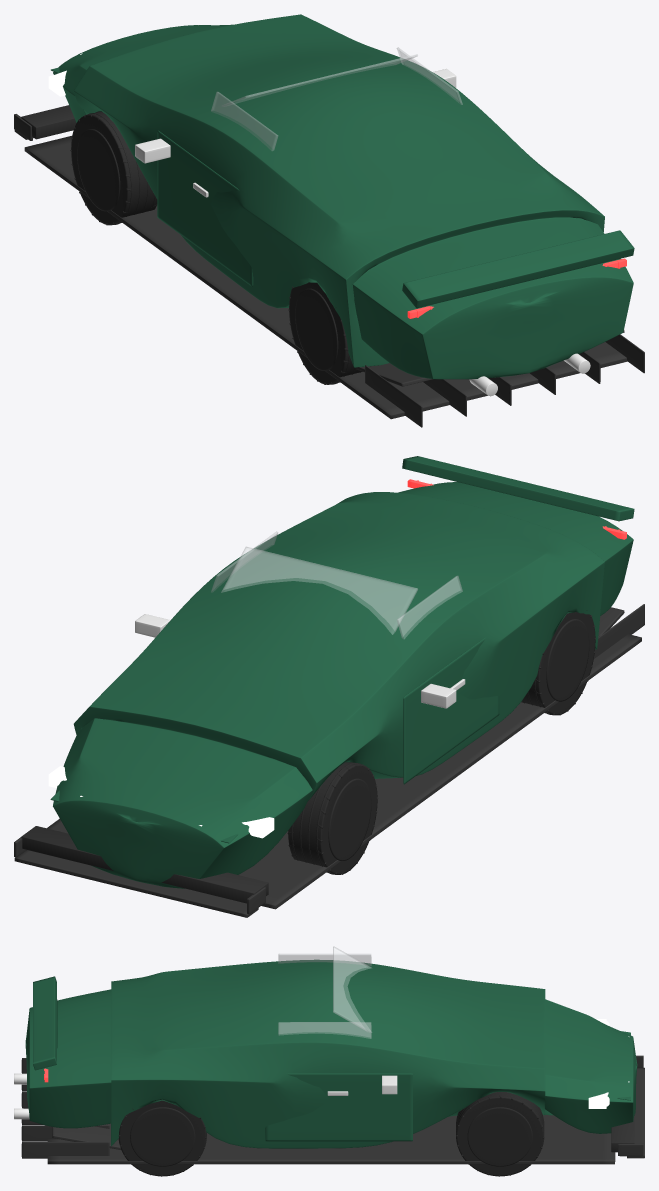
The model's file is Car_AstonMartin_V8_Vantage_1970s_Complete.glb.
3 renders of one model, top to bottom at view 1: azimuth 30°, elevation 25°; view 2: azimuth 150°, elevation 25°; view 3: azimuth 270°, elevation 25°, orthographic. The views are drawn at different scales.
Parts seen in each view (by area): view 1: BODY_MainShell, UNDERBODY_FlatFloor, AERO_Vantage_Ducktail, WHEEL_FL_Tire, BODY_Door_FL, WHEEL_RL_Tire, GLASS_Greenhouse, AERO_Vantage_ChinSpoiler, JEWELRY_Hardware, JEWELRY_Vantage_TwinExhaust; view 2: BODY_MainShell, UNDERBODY_FlatFloor, GLASS_Greenhouse, WHEEL_FL_Tire, BODY_Door_FL, WHEEL_RL_Tire, AERO_Vantage_Ducktail, AERO_FrontSplitter, AERO_Vantage_ChinSpoiler, JEWELRY_Hardware, LIGHTING_Headlamps; view 3: BODY_MainShell, UNDERBODY_FlatFloor, BODY_Door_FR, WHEEL_FR_Tire, WHEEL_RR_Tire, GLASS_Greenhouse, AERO_Vantage_Ducktail, AERO_FrontSplitter, AERO_Vantage_ChinSpoiler, JEWELRY_Hardware, LIGHTING_Headlamps, JEWELRY_Vantage_TwinExhaust.
Part boxes in pixels (box(x1,y1,x2,y2)): BODY_MainShell: box(53, 14, 633, 379); UNDERBODY_FlatFloor: box(24, 136, 644, 427); AERO_Vantage_Ducktail: box(402, 230, 634, 308); WHEEL_FL_Tire: box(70, 111, 157, 225); BODY_Door_FL: box(157, 130, 253, 286); WHEEL_RL_Tire: box(288, 282, 362, 384); GLASS_Greenhouse: box(211, 47, 462, 150); AERO_Vantage_ChinSpoiler: box(21, 105, 76, 139); JEWELRY_Hardware: box(135, 69, 456, 197); JEWELRY_Vantage_TwinExhaust: box(469, 353, 590, 396); BODY_MainShell: box(53, 482, 633, 888); UNDERBODY_FlatFloor: box(47, 604, 644, 909); GLASS_Greenhouse: box(211, 531, 462, 638); WHEEL_FL_Tire: box(287, 762, 378, 874); BODY_Door_FL: box(403, 637, 499, 784); WHEEL_RL_Tire: box(521, 610, 595, 715); AERO_Vantage_Ducktail: box(402, 456, 634, 521); AERO_FrontSplitter: box(14, 837, 265, 917); AERO_Vantage_ChinSpoiler: box(21, 826, 268, 903); JEWELRY_Hardware: box(135, 614, 465, 708); LIGHTING_Headlamps: box(48, 766, 274, 838); BODY_MainShell: box(25, 959, 637, 1148); UNDERBODY_FlatFloor: box(21, 1058, 615, 1164); BODY_Door_FR: box(265, 1073, 412, 1141); WHEEL_FR_Tire: box(456, 1092, 544, 1176); WHEEL_RR_Tire: box(118, 1100, 206, 1176); GLASS_Greenhouse: box(278, 946, 371, 1038); AERO_Vantage_Ducktail: box(33, 976, 57, 1070); AERO_FrontSplitter: box(618, 1055, 644, 1158); AERO_Vantage_ChinSpoiler: box(611, 1114, 634, 1152); JEWELRY_Hardware: box(327, 1075, 397, 1095); LIGHTING_Headlamps: box(588, 1019, 609, 1108); JEWELRY_Vantage_TwinExhaust: box(14, 1073, 29, 1119).
Size of what is drawn, in the model's own units: 2.16 by 1.29 by 4.88.
